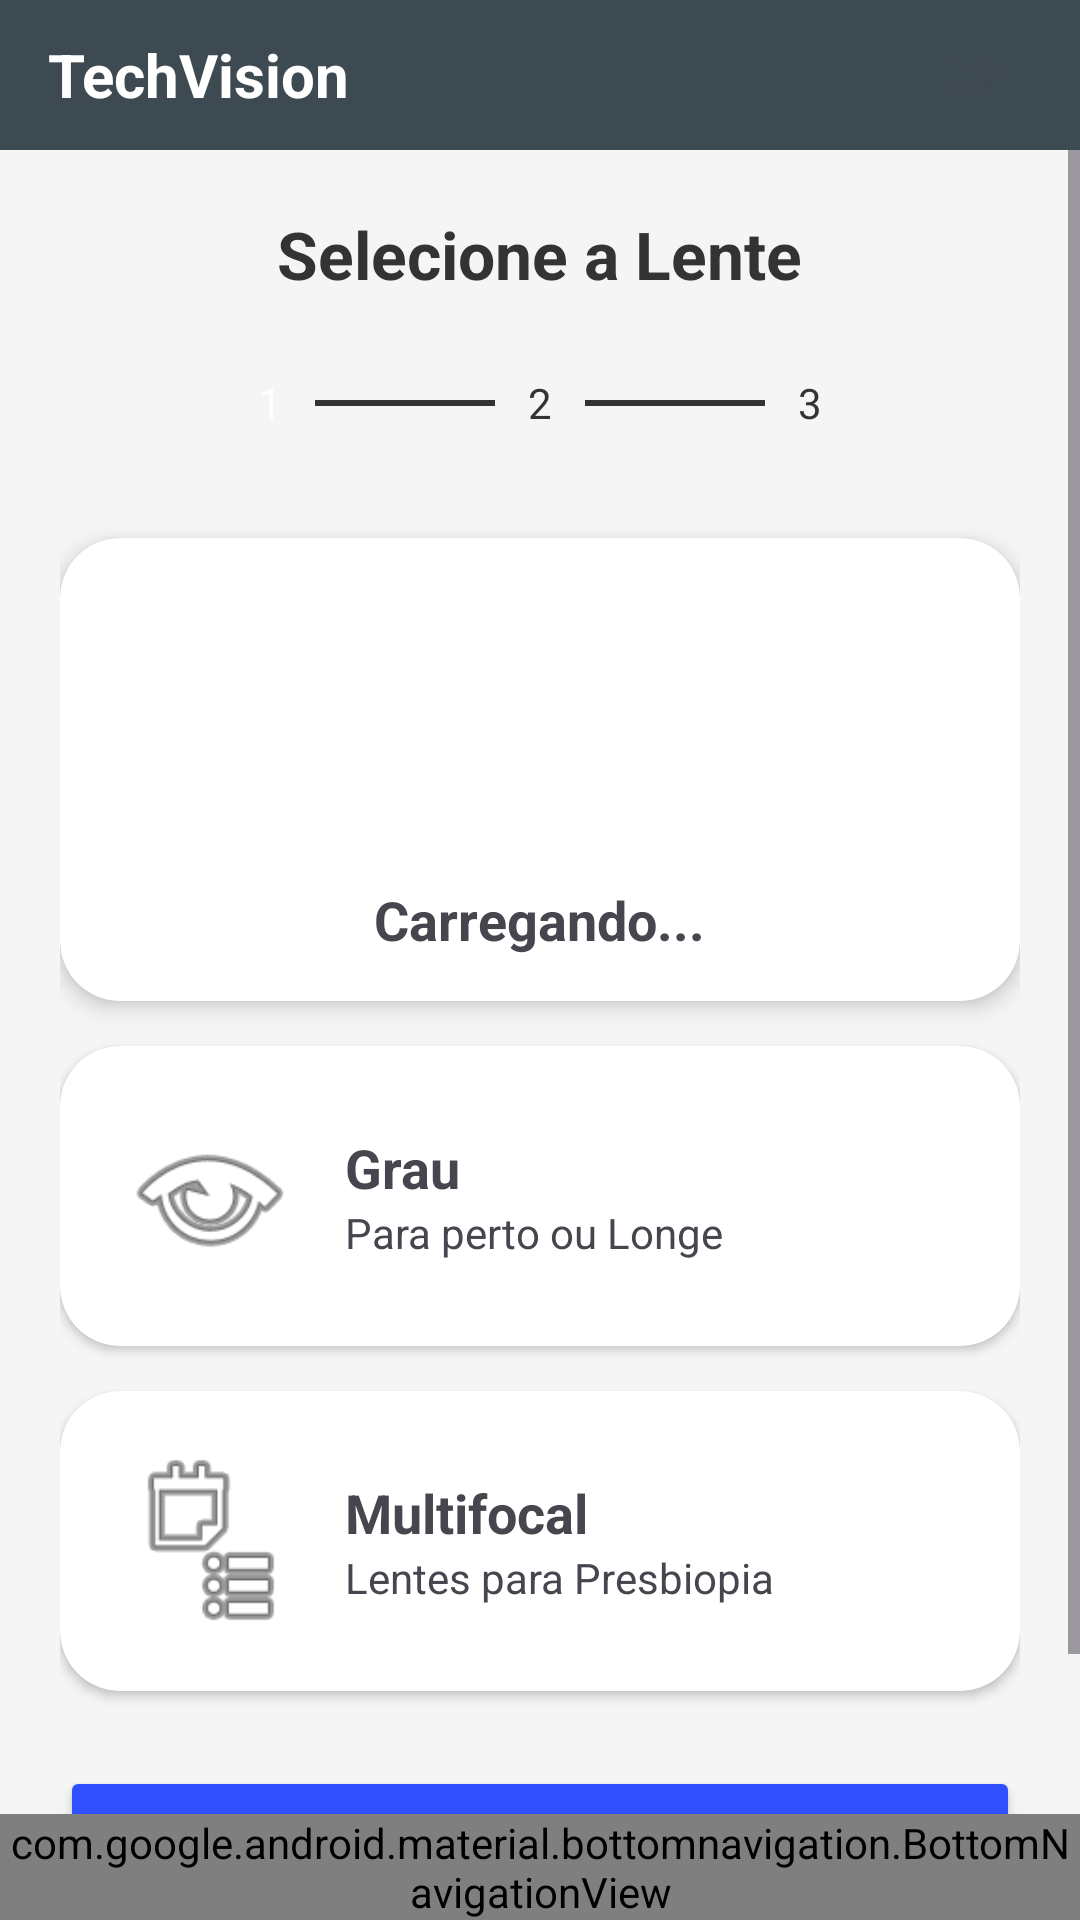

Named icons in this screenshot (1080×1920) and their centers, (x,y):
agenda: (211,1540)
view: (210,1200)
